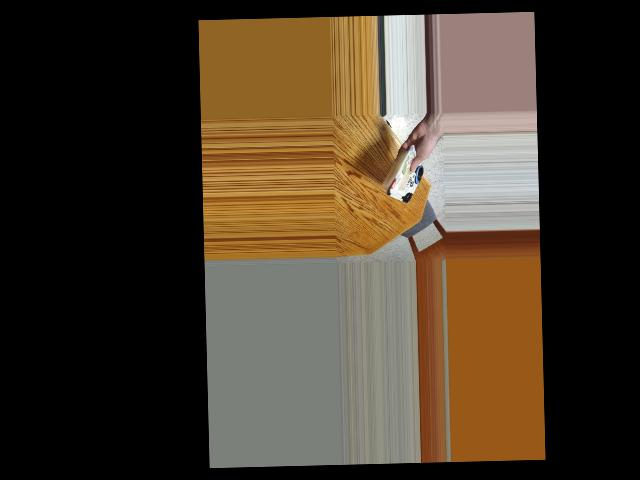cheese: (376, 153, 431, 201)
